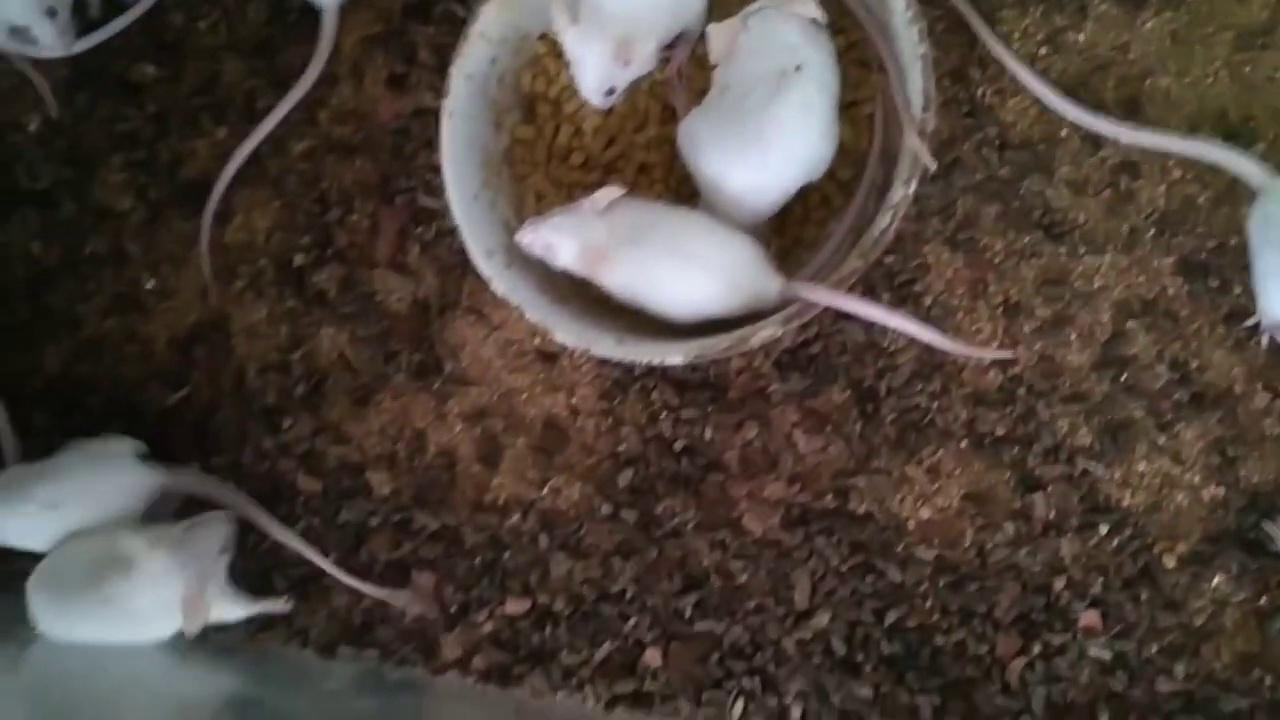rat: (516, 185, 1016, 356), (0, 436, 418, 609), (676, 8, 844, 226), (26, 509, 292, 643), (552, 0, 710, 107), (0, 0, 77, 50)
